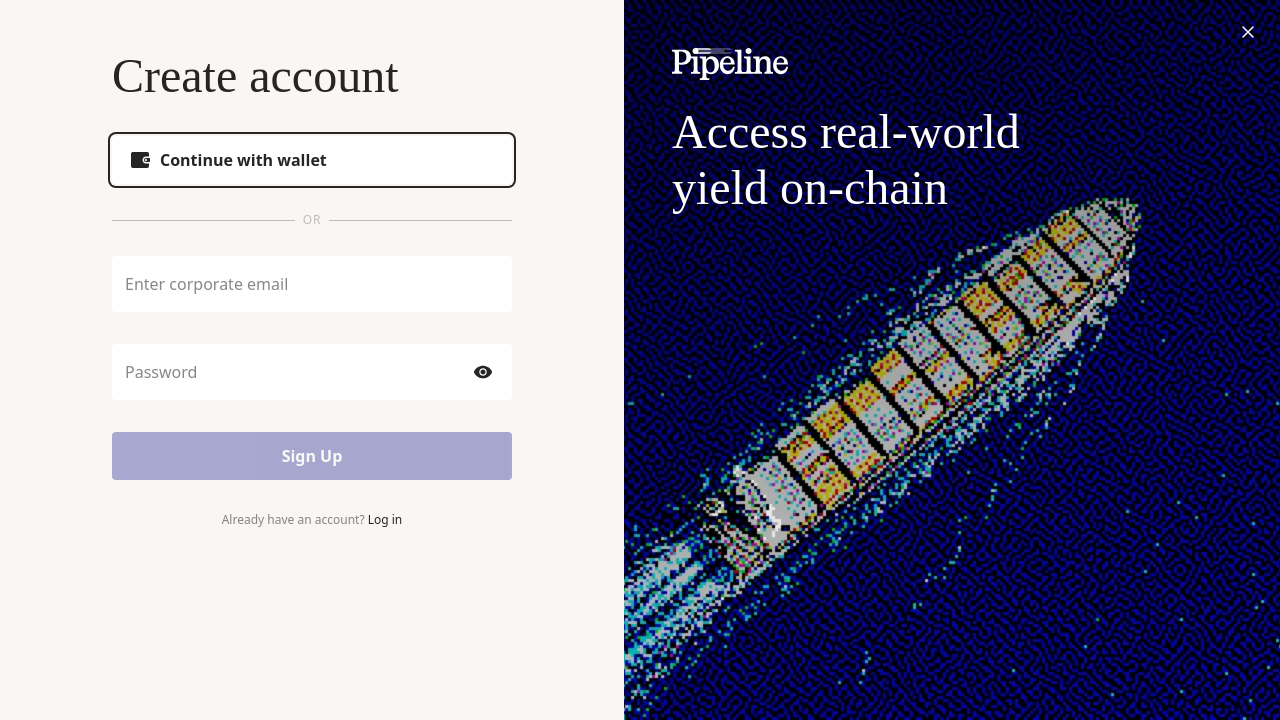
Scenario: CreateAccountModal (#1249) › a weak password plus blur renders the exact policy copy
In the password field with placeholder "Password": coordinates (294, 372) [125,361,463,383], type "weak"
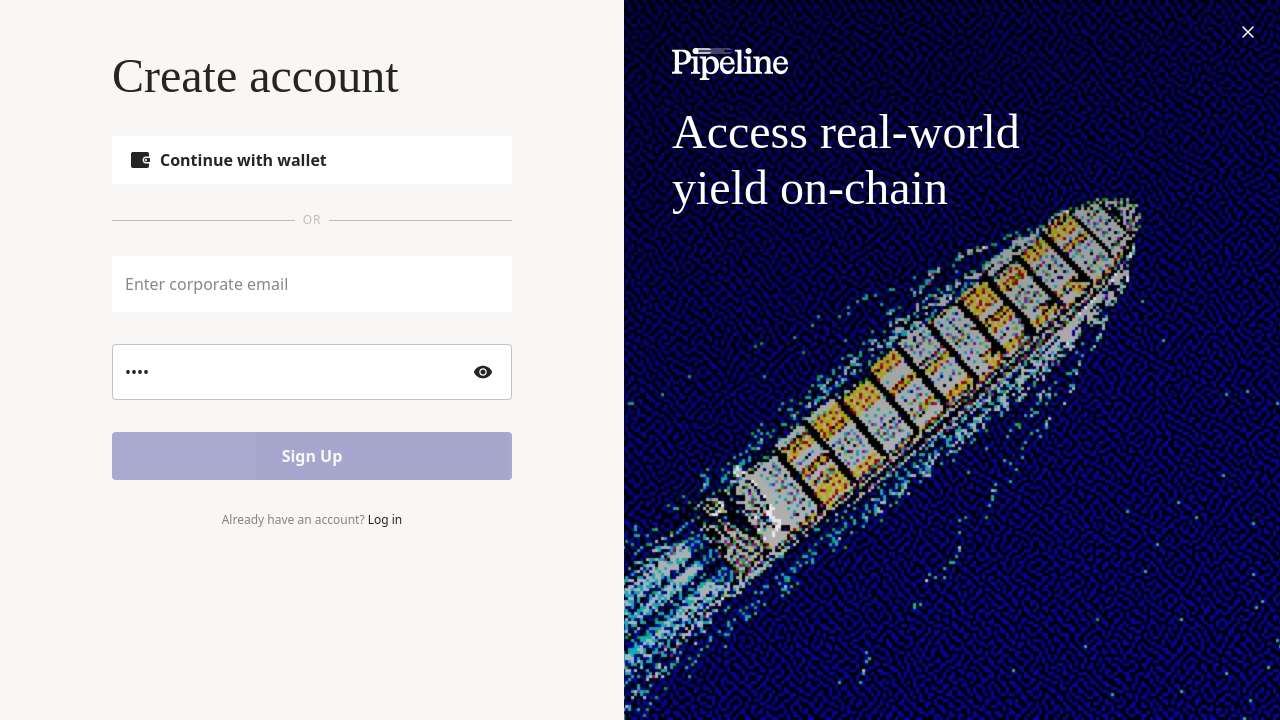
Leave the password field with placeholder "Password", box [125,361,463,383]
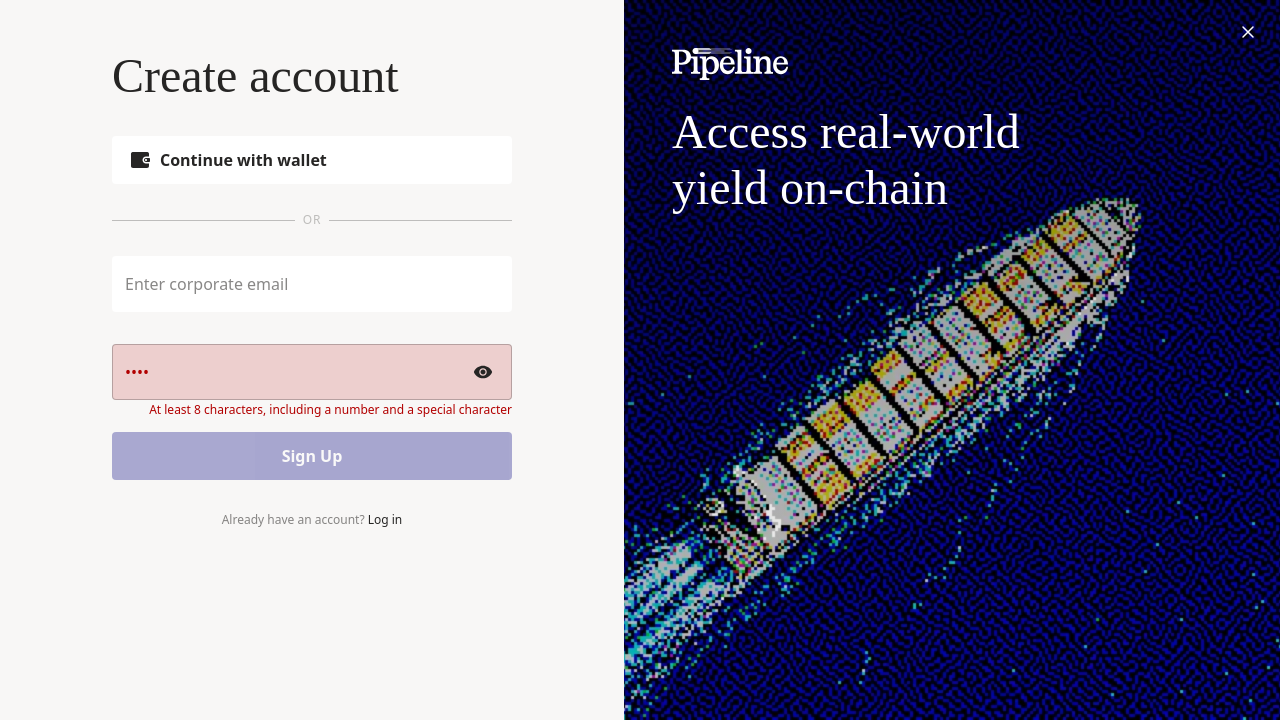
expect the text "At least 8 characters, including a number and a special character" is shown: met, box [149,402,512,418]
